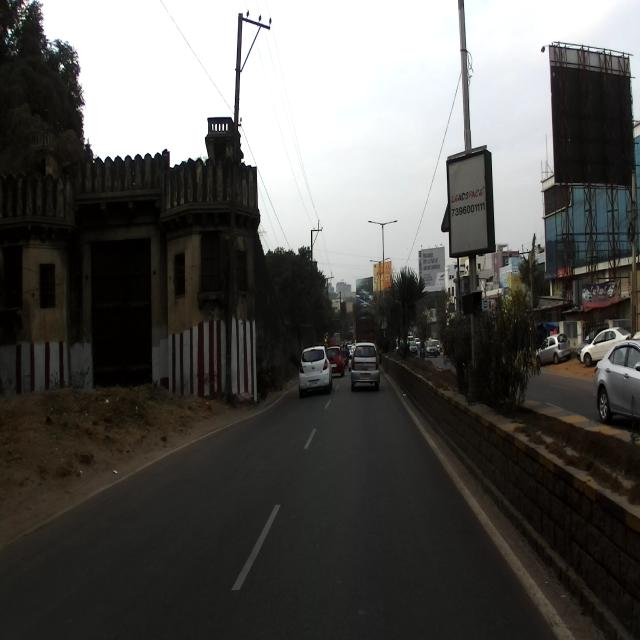car ahead at: (296, 336, 331, 398), (349, 336, 382, 392)
